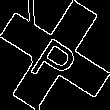P_NE: (26, 24, 84, 86)
